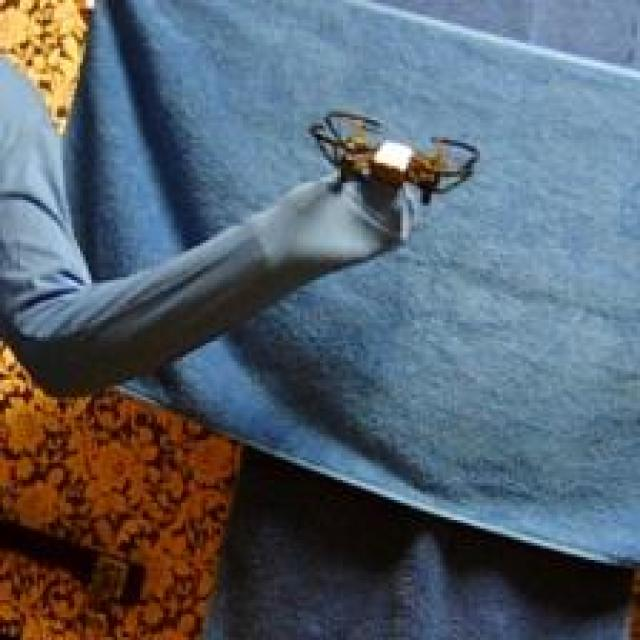drone: (307, 107, 484, 213)
